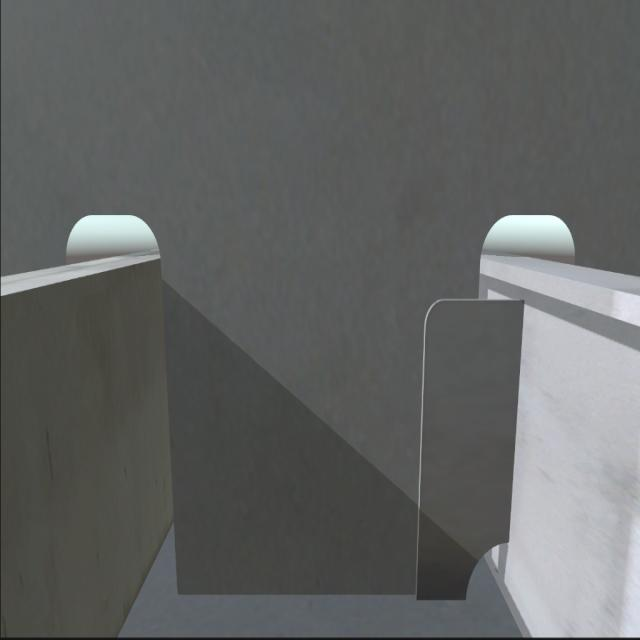fillet_hole: (465, 537, 507, 596)
fillet_yong_jeop_jang: (175, 586, 472, 607)
longi_yong_jeop_jang: (507, 292, 521, 550)
plate_CP05: (414, 296, 524, 596)
